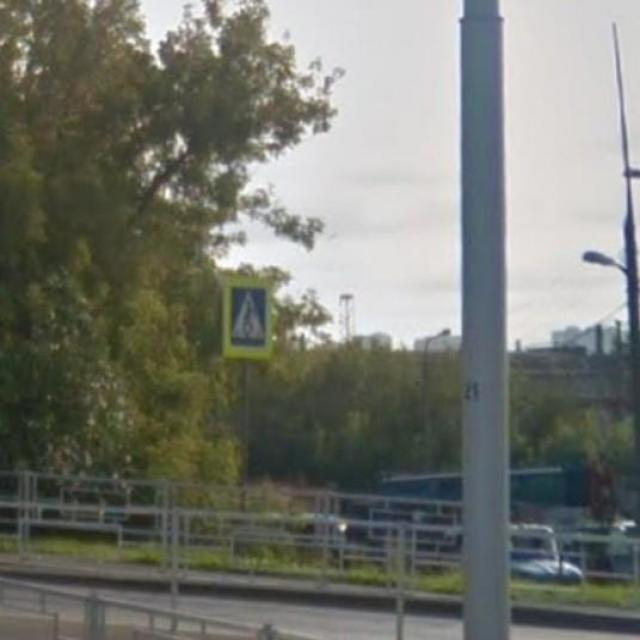Przejscie dla pieszych: (217, 265, 282, 370)
